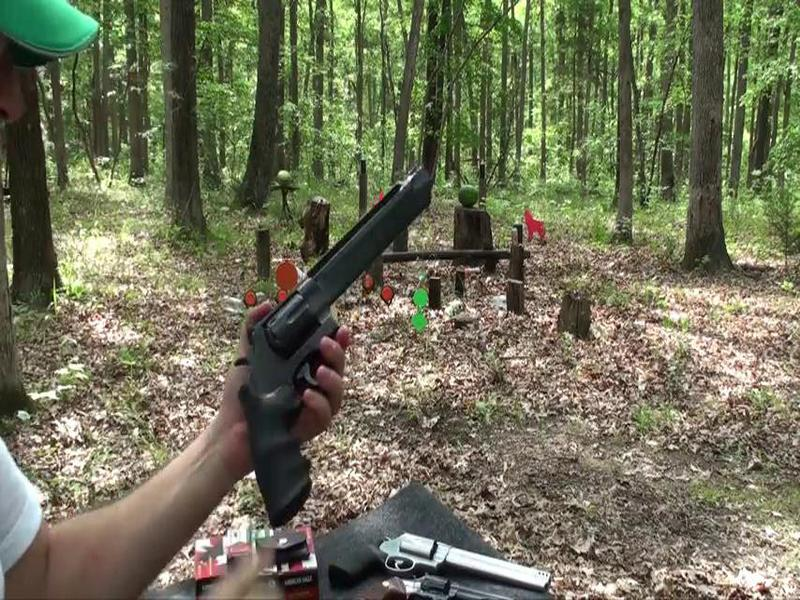Revolver: (237, 152, 427, 504)
